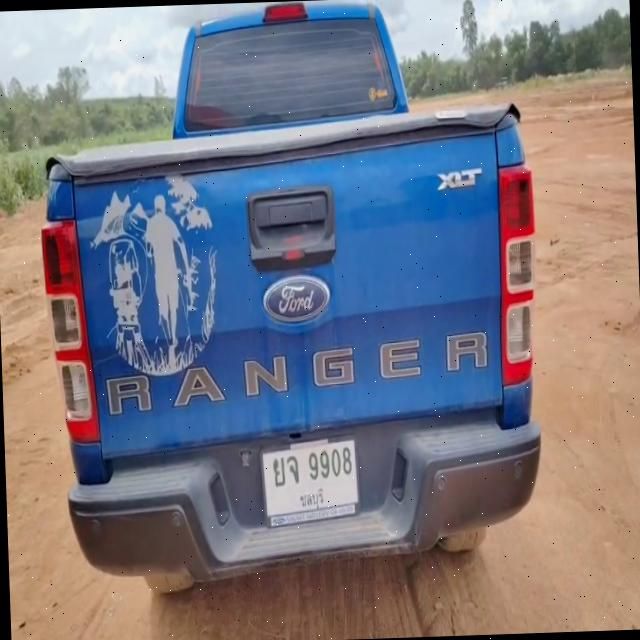Digit: (308, 446, 352, 480)
Licenseplate: (259, 436, 363, 523)
Provincename: (300, 485, 326, 510)
Thaichar: (272, 455, 300, 488)
